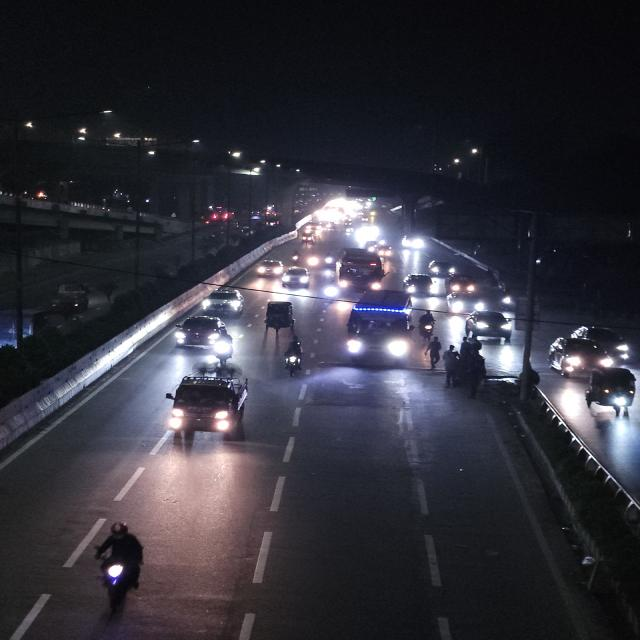bus: (344, 290, 414, 372), (336, 248, 386, 297)
car: (548, 337, 609, 376), (581, 326, 632, 364), (172, 315, 225, 350), (463, 309, 513, 344), (202, 284, 248, 320), (444, 292, 489, 314), (401, 274, 438, 298), (280, 268, 315, 292), (256, 257, 284, 281), (429, 260, 457, 278)
cng: (584, 365, 639, 418), (257, 298, 303, 335), (297, 230, 317, 248)
motorcycle: (70, 516, 166, 624), (275, 335, 318, 382), (208, 331, 242, 365), (416, 307, 446, 345), (321, 250, 337, 270), (289, 249, 301, 265)
pedestrian: (457, 334, 476, 376), (470, 351, 487, 394), (443, 343, 459, 387), (428, 336, 444, 371)
pickup_van: (163, 367, 255, 452), (41, 280, 94, 312), (440, 271, 480, 296)
truck: (2, 309, 54, 347)
